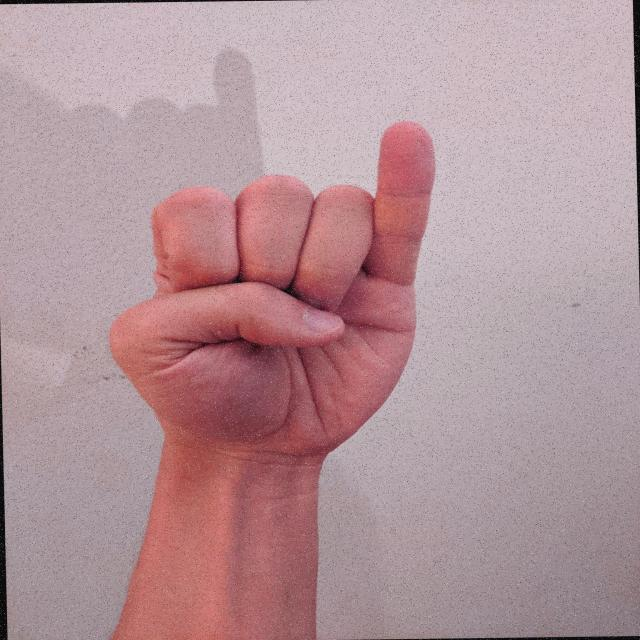I: (93, 114, 451, 471)
